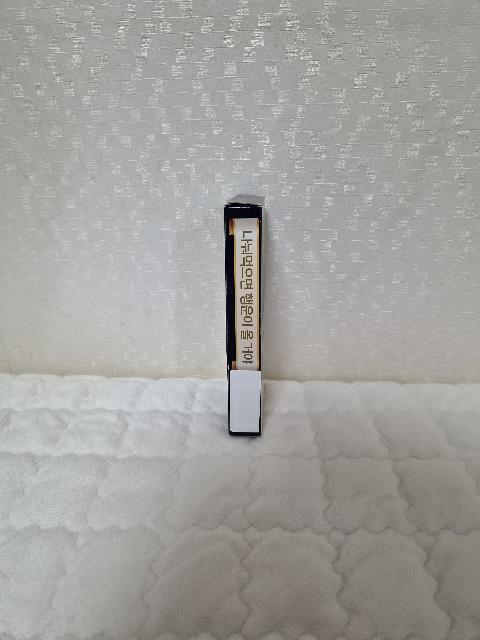pepero: (223, 195, 265, 437)
